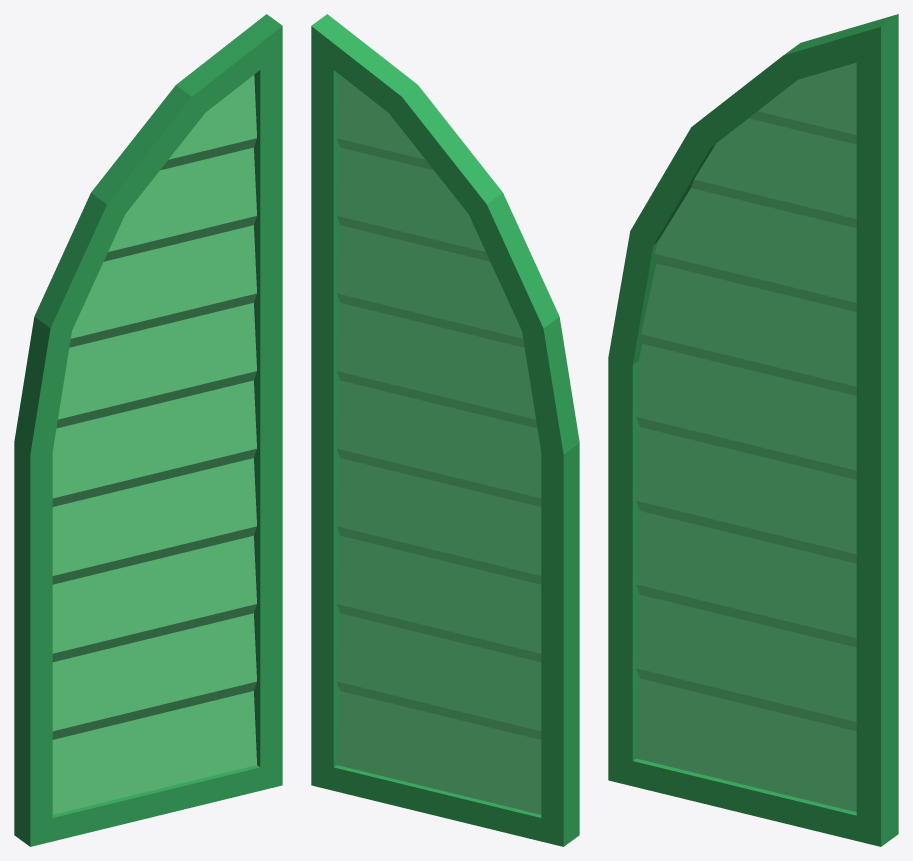
Rendered from WindowLeaf.fbx.
The picture shows the model from 3 angles, left to right: view 1: azimuth 30°, elevation 25°; view 2: azimuth 150°, elevation 25°; view 3: azimuth 330°, elevation 25°; orthographic projection. The views are drawn at different scales.
Parts seen in each view (by area): view 1: WindowLeaf; view 2: WindowLeaf; view 3: WindowLeaf.
Part boxes in pixels (x1,y1,x2,y2): WindowLeaf: [14, 14, 282, 846]; WindowLeaf: [311, 14, 579, 846]; WindowLeaf: [608, 14, 898, 846].
Size of the model in its own units: 0.45 by 0.05 by 1.29.
